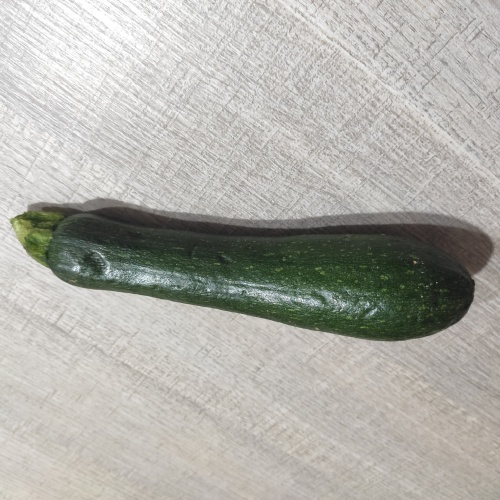zucchine: (9, 201, 482, 356)
